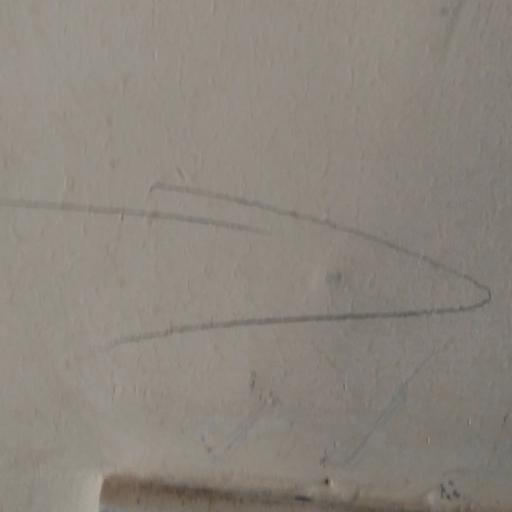stain: (4, 166, 512, 396)
